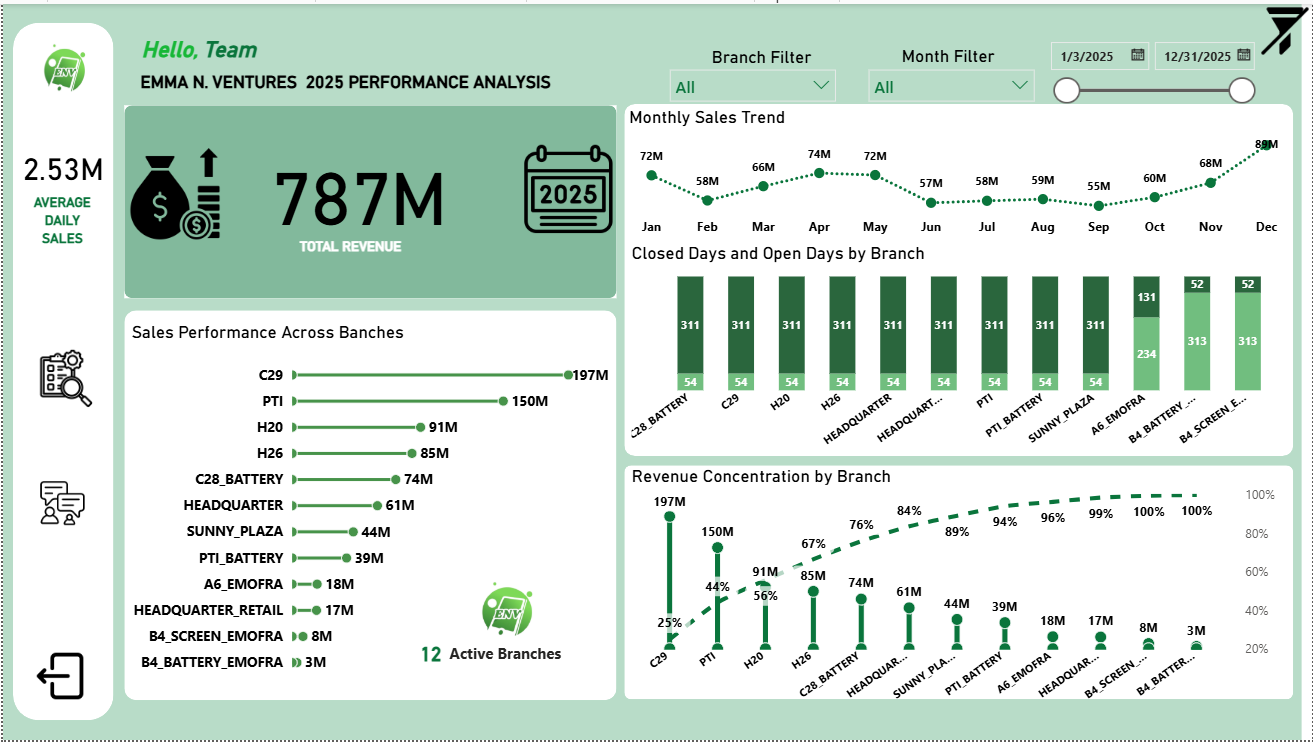

The page's visual inventory and layout, read from the dashboard file:
{"tool":"powerbi","page":{"name":"Page 1","canvas":[1280,720],"ordinal":0},"visuals":[{"type":"shape","box":[0,0,1270.7,720.4],"z":0},{"type":"shape","box":[9.2,18.4,98.4,682.2],"z":1000},{"type":"shape","box":[118.3,98.6,481.7,188.7],"z":2000},{"type":"shape","box":[118,299.1,481.6,381.5],"z":3000},{"type":"shape","box":[607.9,97.4,654.5,344.4],"z":4000},{"type":"textbox","box":[131,26.8,146.5,45.1],"z":5000},{"type":"textbox","box":[129.6,60.6,729.6,43.7],"z":6000},{"type":"slicer","fields":{"Values":["Sheet1.Branch"]},"box":[642.6,53.5,182.5,45.3],"z":7000,"group":"g1"},{"type":"slicer","fields":{"Values":["Date Table.Month Short"]},"box":[836.1,53.5,182.5,45.3],"z":7000,"group":"g2"},{"type":"image","box":[32.9,632.6,45.3,50.8],"z":7000},{"type":"image","box":[28.8,463.8,57.6,49.4],"z":8000},{"type":"textbox","box":[874.5,35.7,107,31.6],"z":9000,"group":"g2"},{"type":"textbox","box":[688.5,36.1,118,31.6],"z":9000,"group":"g1"},{"type":"image","box":[32.9,334.8,57.6,61.7],"z":9000},{"type":"image","box":[120.8,135.8,94.7,100.2],"z":10000},{"type":"image","box":[510.5,134.5,86.4,93.3],"z":11000},{"type":"shape","box":[607.9,451.5,654.5,229.2],"z":12000},{"type":"barChart","title":"Sales Performance Across Banches","fields":{"Category":["Sheet1.Branch"],"Y":["Sheet1.Total sales"]},"box":[120.8,310.1,476.2,359.5],"z":13000},{"type":"lineChart","title":"Monthly Sales Trend","fields":{"Y":["Sheet1.Total sales"],"Category":["Sheet1.Month short"]},"box":[607.7,100.3,655.4,135.7],"z":14000},{"type":"card","fields":{"Values":["Sheet1.Total sales"]},"box":[198.7,104.9,300.8,150.4],"z":15000},{"type":"lineClusteredColumnComboChart","title":"Revenue Concentration by Branch","fields":{"Category":["Sheet1.Branch"],"Y":["Sheet1.Revenue per branch"],"Y2":["Sheet1.Cummulative Revenue %"]},"box":[610.2,451.2,638.3,239.7],"z":16000},{"type":"card","fields":{"Values":["Sheet1.Active Branch"]},"box":[387,617.5,64.5,37],"z":17000},{"type":"textbox","box":[432.2,620.2,156.4,32.9],"z":18000},{"type":"image","box":[1227.1,0,52.9,52.9],"z":19000},{"type":"group","id":"g1","title":"Group 1","box":[642.6,36.1,182.5,62.7],"z":20000},{"type":"group","id":"g2","title":"Group 1","box":[836.1,35.7,182.5,63.1],"z":21000},{"type":"slicer","fields":{"Values":["Sheet1.Date"]},"box":[1012.7,27.4,220.9,76.8],"z":22000},{"type":"image","box":[419.9,521.4,148.2,148.2],"z":23000},{"type":"card","fields":{"Values":["Sheet1.Average"]},"box":[9.6,112.5,98.8,94.7],"z":24000},{"type":"textbox","box":[13.7,179.8,89.2,75.5],"z":25000},{"type":"image","box":[0,0,120.8,130.4],"z":26000},{"type":"textbox","box":[215.2,222.6,249.5,33],"z":27000},{"type":"hundredPercentStackedColumnChart","fields":{"Category":["Sheet1.Branch"],"Y":["Date Table.Closed Days","Date Table.Open Days"]},"box":[610.6,233.3,646.3,208.6],"z":28000}]}

Visuals, with their boxes in screenshot pixels (x1, y1, x2, y2), scaled from the page's 1280x720 canvas onto the 1313x744 screenshot:
shape: [0,0,1303,743]
shape: [9,19,110,724]
shape: [121,102,615,297]
shape: [121,309,615,703]
shape: [624,101,1295,457]
textbox: [134,28,285,74]
textbox: [133,63,881,108]
slicer - Sheet1.Branch: [659,55,846,102]
slicer - Date Table.Month Short: [858,55,1045,102]
image: [34,654,80,706]
image: [30,479,89,530]
textbox: [897,37,1007,70]
textbox: [706,37,827,70]
image: [34,346,93,410]
image: [124,140,221,244]
image: [524,139,612,235]
shape: [624,467,1295,703]
"Sales Performance Across Banches" barChart: [124,320,612,692]
"Monthly Sales Trend" lineChart: [623,104,1296,244]
card - Sheet1.Total sales: [204,108,512,264]
"Revenue Concentration by Branch" lineClusteredColumnComboChart: [626,466,1281,714]
card - Sheet1.Active Branch: [397,638,463,676]
textbox: [443,641,604,675]
image: [1259,0,1312,55]
"Group 1" group: [659,37,846,102]
"Group 1" group: [858,37,1045,102]
slicer - Sheet1.Date: [1039,28,1265,108]
image: [431,539,583,692]
card - Sheet1.Average: [10,116,111,214]
textbox: [14,186,106,264]
image: [0,0,124,135]
textbox: [221,230,477,264]
hundredPercentStackedColumnChart - Sheet1.Branch x Date Table.Closed Days: [626,241,1289,457]
